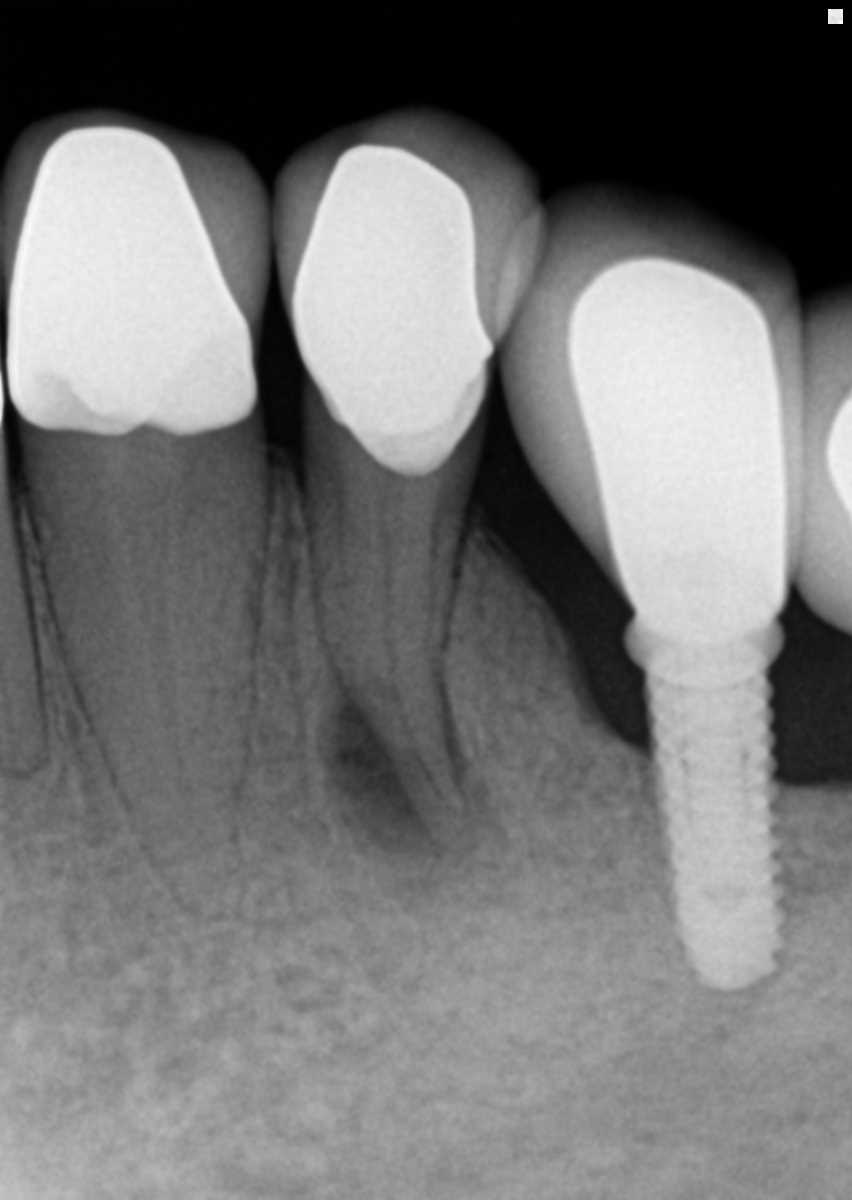Apical Lesion: (308, 702, 504, 871)
Main Canal: (105, 469, 198, 838), (377, 470, 453, 819)
Main Root: (22, 453, 269, 919), (296, 463, 472, 842)
